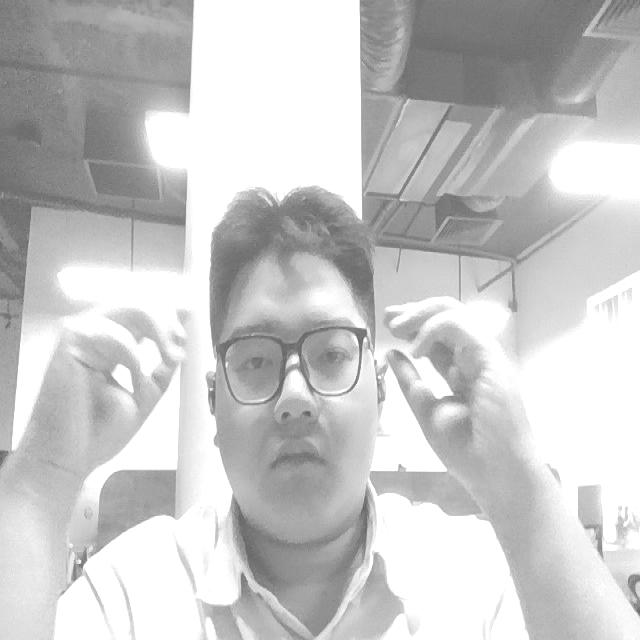real: (183, 140, 397, 564), (223, 337, 368, 387)
